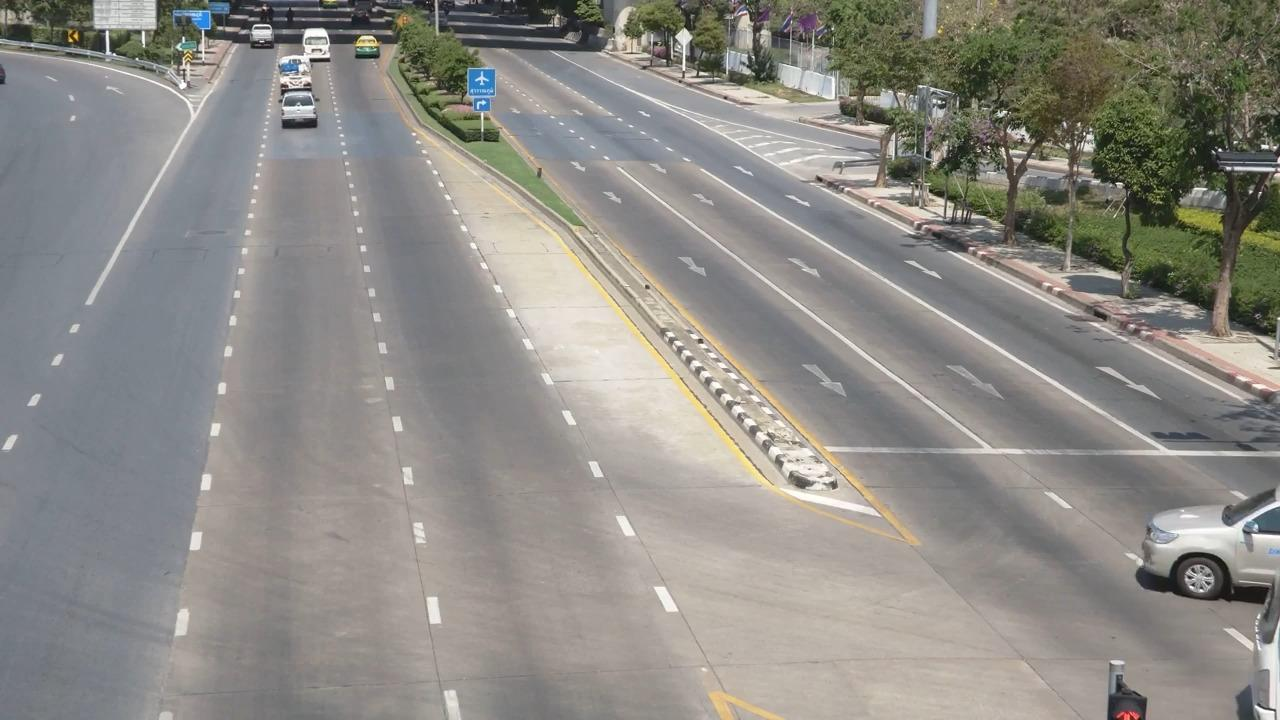CAR: (1122, 462, 1280, 602), (272, 91, 331, 148), (271, 54, 324, 97), (239, 20, 285, 60), (299, 26, 339, 66), (349, 33, 388, 71)
